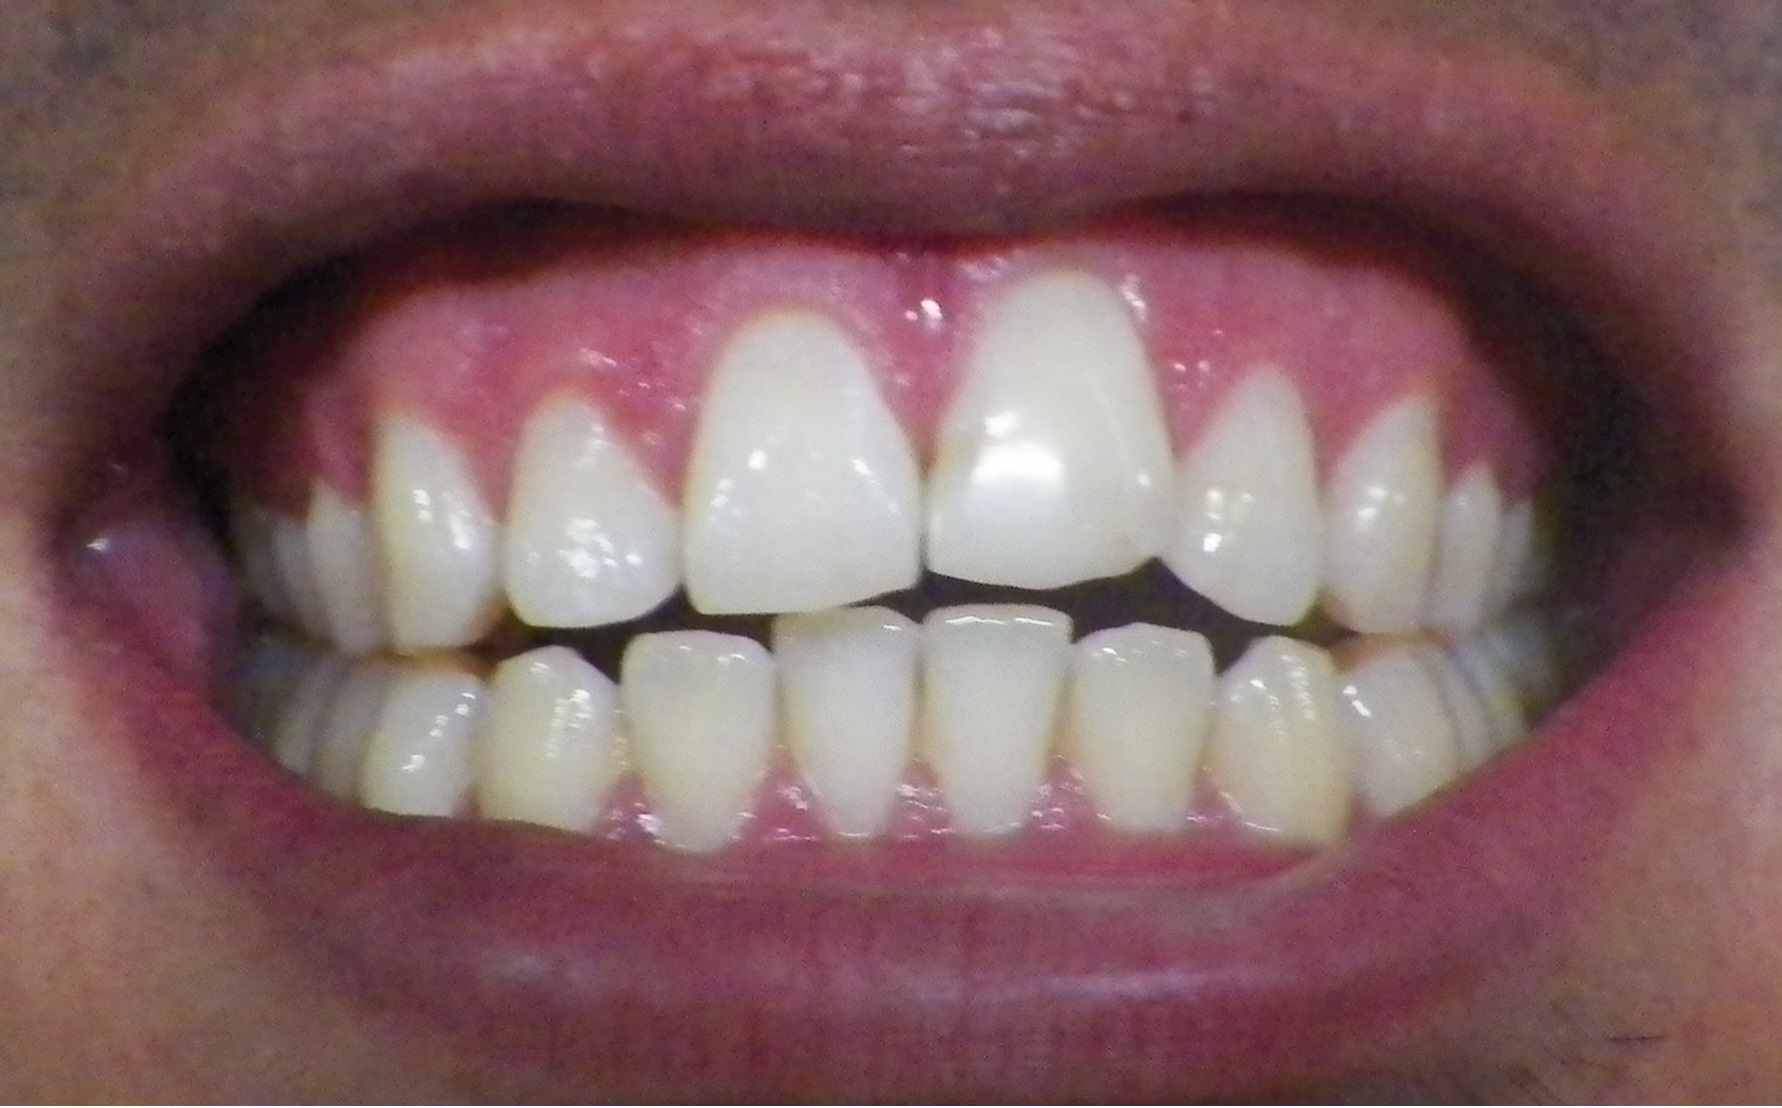boca: (255, 286, 1568, 849)
